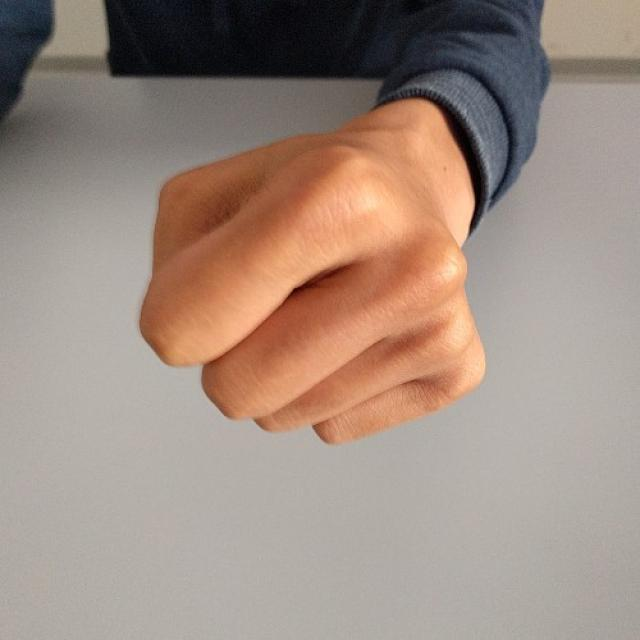fist: (131, 120, 504, 452)
